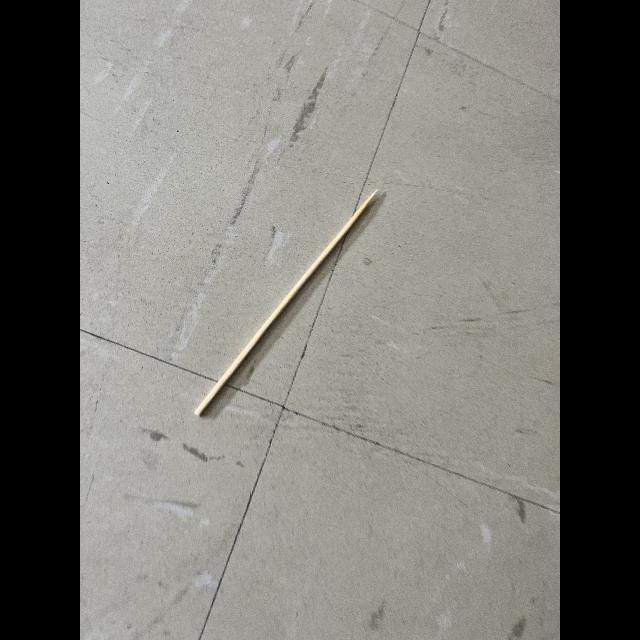stick: (188, 175, 388, 431)
